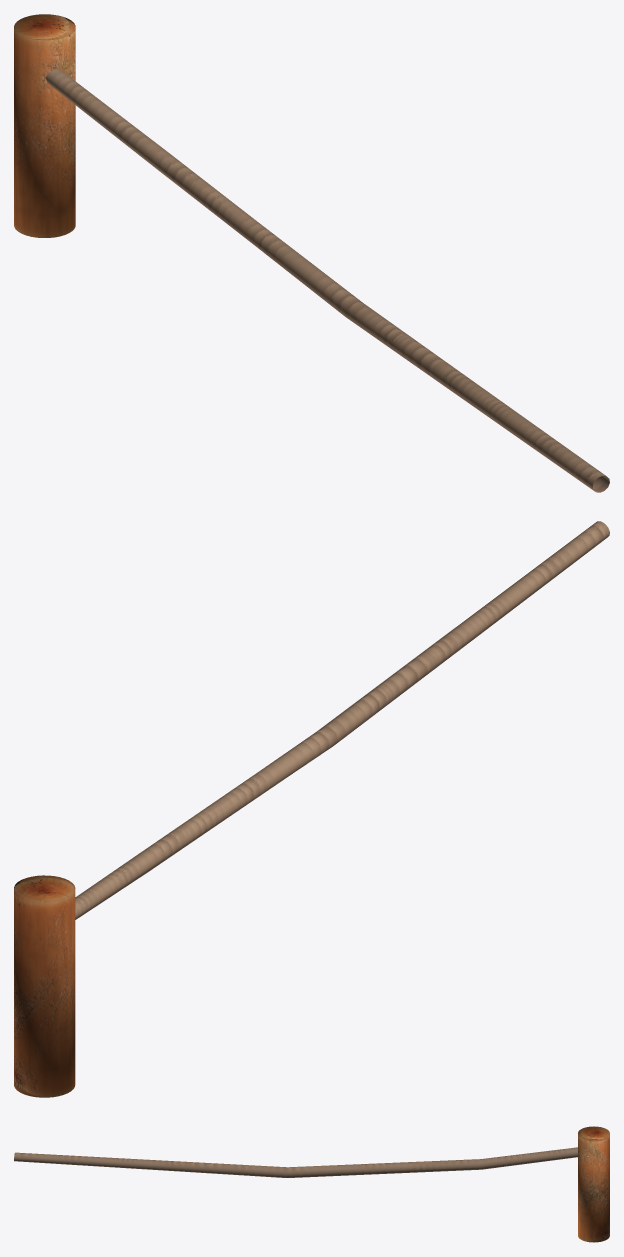
The model's file is Props.fbx.
The picture shows the model from 3 angles, top to bottom: view 1: azimuth 30°, elevation 25°; view 2: azimuth 150°, elevation 25°; view 3: azimuth 270°, elevation 25°; orthographic projection. The views are drawn at different scales.
Visible parts, largest first — view 1: Rope, Wood; view 2: Rope, Wood; view 3: Rope, Wood.
Part boxes in pixels (<box>): Rope: <box>46,69,609,492</box>; Wood: <box>14,14,75,237</box>; Rope: <box>75,521,609,919</box>; Wood: <box>14,875,75,1097</box>; Rope: <box>14,1147,578,1177</box>; Wood: <box>578,1126,609,1242</box>.
Bounding box in the file's own units: 0.329 × 1.16 × 6.11.
